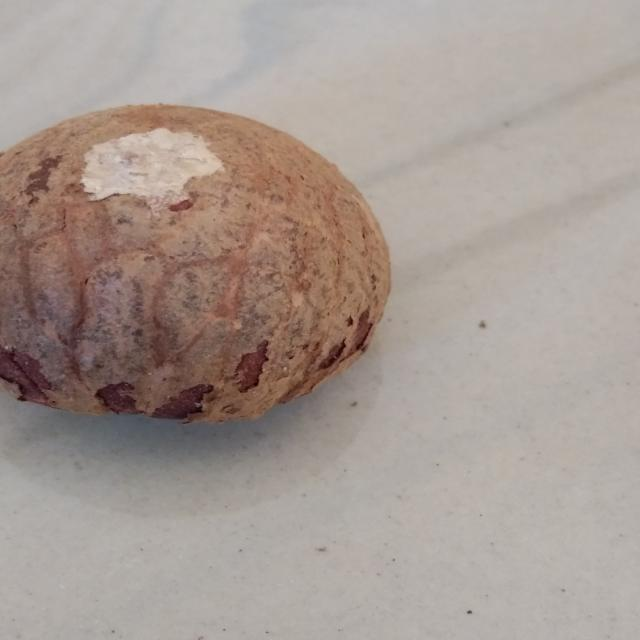karigot: (0, 96, 397, 442)
